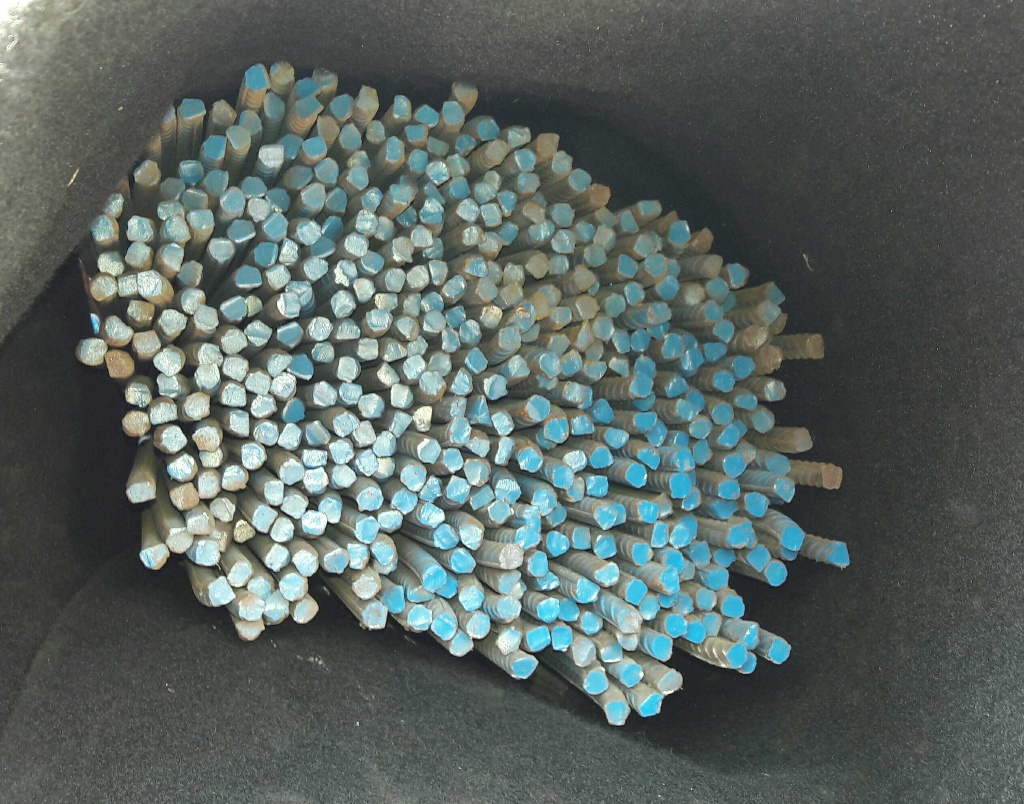dipstick: (153, 345, 185, 376), (154, 424, 186, 453), (105, 315, 134, 344), (105, 349, 134, 378), (126, 376, 154, 406), (91, 273, 117, 304), (92, 214, 119, 243), (279, 573, 308, 600), (139, 543, 169, 569), (121, 411, 152, 436), (194, 470, 221, 498), (168, 455, 197, 481), (170, 483, 199, 509), (209, 576, 234, 606), (164, 216, 191, 243), (127, 216, 155, 242), (192, 426, 221, 451), (220, 296, 247, 322), (330, 290, 356, 317), (222, 354, 248, 381), (221, 465, 248, 491), (158, 309, 186, 334), (238, 595, 266, 620), (125, 481, 156, 503), (245, 320, 271, 346), (358, 393, 384, 419), (355, 518, 381, 544), (431, 614, 457, 640), (262, 212, 287, 239), (176, 260, 203, 285), (150, 398, 177, 423), (185, 392, 210, 419), (400, 464, 425, 491), (526, 394, 551, 421), (347, 542, 371, 570), (499, 570, 527, 594), (160, 243, 183, 272), (245, 64, 270, 90), (210, 100, 236, 125), (137, 271, 162, 297), (181, 288, 206, 314), (221, 328, 246, 354), (304, 419, 329, 445), (279, 459, 304, 485), (166, 528, 192, 553), (194, 540, 220, 565), (293, 549, 318, 575), (324, 548, 350, 573), (419, 502, 444, 528), (449, 548, 475, 573), (657, 669, 683, 694), (744, 491, 769, 517), (228, 219, 255, 243), (125, 242, 152, 266), (287, 353, 311, 380), (304, 467, 328, 494), (365, 310, 392, 334), (667, 221, 691, 248), (157, 373, 185, 396), (278, 423, 301, 451), (352, 574, 380, 597), (265, 188, 290, 213), (277, 322, 302, 347), (227, 562, 252, 587), (265, 545, 290, 570), (531, 489, 556, 514), (97, 251, 123, 275), (128, 300, 154, 324), (288, 280, 312, 306), (80, 340, 106, 364), (194, 363, 218, 389), (333, 412, 359, 436), (242, 443, 266, 469), (328, 439, 354, 463), (210, 497, 236, 521), (253, 506, 277, 532), (357, 487, 383, 511), (465, 460, 489, 486), (669, 472, 693, 498), (253, 422, 280, 445), (512, 655, 539, 678), (747, 545, 770, 572), (133, 331, 161, 353), (451, 367, 473, 395), (297, 220, 321, 245), (264, 265, 289, 289), (194, 306, 218, 331), (335, 260, 359, 285), (301, 511, 326, 535), (293, 598, 318, 622), (459, 586, 483, 611), (392, 489, 417, 513), (434, 523, 458, 548), (518, 446, 542, 471), (593, 505, 617, 530), (134, 160, 160, 183), (330, 94, 353, 120), (315, 158, 338, 184), (235, 265, 261, 288), (302, 258, 328, 281), (313, 380, 336, 406), (355, 449, 378, 475), (363, 602, 386, 628), (495, 479, 521, 502), (442, 276, 465, 302), (661, 333, 684, 359), (547, 530, 569, 557), (203, 135, 227, 159), (220, 187, 244, 211), (278, 134, 302, 158), (254, 242, 278, 266), (276, 293, 300, 317), (498, 628, 522, 652), (526, 626, 550, 650), (605, 701, 629, 725), (595, 562, 619, 586), (420, 372, 444, 396), (524, 254, 548, 278), (671, 448, 695, 472), (179, 160, 204, 183), (259, 144, 284, 167), (287, 166, 312, 189), (209, 238, 234, 261), (198, 343, 223, 366), (221, 383, 246, 406), (319, 498, 342, 523), (409, 605, 432, 630), (459, 524, 482, 549), (417, 438, 440, 463), (447, 476, 470, 501), (402, 355, 425, 380), (593, 225, 616, 250), (537, 285, 562, 308), (625, 580, 648, 605), (781, 526, 804, 551), (705, 279, 728, 304), (353, 421, 375, 447), (424, 566, 446, 592), (374, 430, 396, 456), (459, 319, 481, 345), (465, 347, 487, 373), (187, 208, 214, 229), (188, 513, 215, 534), (384, 586, 405, 613), (391, 411, 411, 439), (450, 417, 470, 445), (205, 170, 228, 194), (301, 183, 324, 207), (268, 352, 291, 376), (338, 357, 361, 381), (270, 518, 293, 542), (371, 541, 394, 565), (500, 545, 524, 568), (580, 611, 603, 635), (381, 338, 405, 361), (415, 104, 439, 127), (551, 229, 575, 252), (574, 296, 598, 319), (680, 348, 703, 372), (225, 126, 250, 148), (316, 116, 338, 141), (245, 372, 270, 394), (281, 495, 306, 517), (573, 641, 595, 666), (583, 671, 608, 693), (487, 140, 509, 165), (478, 231, 500, 256), (485, 374, 507, 399), (552, 202, 574, 227), (623, 281, 645, 306), (713, 499, 738, 521), (295, 97, 321, 118), (183, 189, 209, 210), (239, 177, 265, 198), (301, 137, 327, 158), (341, 123, 362, 149), (321, 216, 342, 242), (251, 396, 277, 417), (334, 319, 360, 340), (574, 264, 595, 290), (559, 349, 580, 375), (652, 634, 673, 660), (769, 639, 790, 665), (689, 542, 710, 568), (727, 262, 748, 288), (376, 511, 403, 531), (661, 565, 680, 593), (239, 111, 262, 134), (160, 178, 183, 201), (346, 167, 369, 190), (309, 317, 332, 340), (345, 234, 368, 257), (470, 487, 493, 510), (464, 254, 487, 277), (645, 254, 668, 277), (545, 419, 568, 442), (325, 188, 347, 212), (282, 398, 304, 422), (498, 596, 520, 620), (488, 500, 512, 522), (426, 162, 448, 186), (480, 203, 502, 227), (503, 263, 525, 287), (717, 424, 739, 448), (753, 409, 775, 433), (263, 92, 284, 117), (362, 249, 383, 274), (421, 200, 442, 225), (427, 260, 448, 285), (498, 221, 519, 246), (605, 293, 626, 318), (647, 302, 672, 323), (703, 300, 724, 325), (393, 237, 413, 263), (829, 541, 849, 567), (158, 201, 185, 220), (338, 382, 361, 404), (396, 317, 418, 340), (442, 102, 464, 125), (473, 181, 495, 204), (656, 276, 679, 298), (592, 317, 614, 340), (563, 381, 586, 403), (637, 448, 660, 470), (621, 664, 644, 686), (765, 562, 787, 585), (669, 524, 691, 547), (723, 455, 746, 477), (712, 402, 734, 425), (732, 356, 755, 378), (356, 211, 377, 235), (375, 217, 396, 241), (229, 411, 250, 435), (332, 465, 356, 486), (468, 614, 489, 638), (537, 598, 558, 622), (594, 534, 615, 558), (391, 384, 412, 408), (563, 450, 587, 471), (546, 503, 567, 527), (625, 464, 646, 488), (665, 613, 686, 637), (821, 464, 842, 488), (756, 302, 780, 323), (263, 481, 283, 506), (500, 326, 520, 351), (594, 398, 614, 423), (570, 414, 595, 434), (646, 421, 666, 446), (179, 99, 205, 118), (280, 240, 299, 266), (392, 94, 411, 120), (497, 190, 516, 216), (495, 437, 513, 464), (353, 279, 375, 301), (450, 634, 472, 656), (577, 580, 599, 602), (429, 353, 451, 375), (411, 225, 433, 247), (405, 124, 427, 146), (536, 133, 558, 155), (514, 150, 536, 172), (523, 201, 545, 223), (423, 311, 445, 333), (445, 306, 467, 328), (639, 694, 661, 716), (722, 595, 744, 617), (270, 62, 293, 83), (384, 269, 405, 292), (551, 152, 572, 175), (492, 412, 513, 435), (500, 283, 521, 306), (634, 234, 655, 257), (635, 356, 656, 379), (637, 500, 658, 523), (672, 592, 693, 615), (711, 371, 734, 392), (714, 319, 735, 342), (358, 87, 378, 111), (528, 552, 548, 576), (553, 466, 573, 490), (604, 428, 628, 448), (675, 399, 699, 419), (726, 644, 746, 668), (198, 448, 223, 467), (515, 527, 540, 546), (413, 407, 432, 432), (507, 126, 532, 145), (461, 225, 486, 244), (618, 253, 637, 278), (693, 440, 712, 465), (703, 342, 728, 361), (387, 136, 405, 162), (248, 198, 269, 220), (477, 119, 499, 140), (448, 177, 469, 199), (585, 244, 606, 266), (630, 375, 651, 397), (586, 475, 607, 497), (727, 526, 749, 547), (681, 283, 702, 305), (311, 343, 334, 363), (558, 598, 578, 621), (378, 363, 398, 386), (425, 137, 448, 157), (517, 173, 540, 193), (590, 182, 610, 205), (630, 328, 650, 351), (633, 411, 656, 431), (591, 447, 614, 467), (774, 479, 794, 502), (741, 623, 758, 650), (363, 187, 382, 211), (458, 198, 477, 222), (541, 353, 560, 377), (665, 551, 684, 575), (806, 334, 825, 358), (744, 326, 768, 345), (767, 280, 786, 304), (312, 68, 337, 86), (612, 329, 630, 354), (357, 339, 378, 360), (569, 169, 590, 190), (509, 355, 530, 376), (686, 620, 707, 641), (695, 589, 716, 610), (765, 380, 786, 401), (297, 78, 319, 98), (442, 449, 462, 471), (551, 628, 571, 650), (390, 184, 412, 204), (455, 135, 477, 155), (477, 279, 497, 301), (706, 570, 728, 590), (689, 418, 711, 438), (409, 265, 428, 288), (566, 478, 585, 501), (482, 305, 501, 328), (619, 613, 642, 632), (600, 643, 623, 662), (702, 613, 721, 636), (767, 455, 790, 474), (793, 428, 812, 451), (233, 522, 254, 542), (469, 437, 489, 458), (407, 148, 427, 169), (574, 220, 595, 240), (666, 376, 687, 396), (632, 543, 652, 564), (366, 120, 385, 142), (248, 577, 270, 596), (375, 293, 397, 312), (546, 336, 568, 355), (584, 360, 606, 379), (639, 597, 658, 619), (682, 487, 701, 509), (703, 255, 722, 277), (347, 151, 370, 169), (244, 293, 262, 316), (441, 329, 459, 352), (620, 210, 638, 233), (694, 228, 712, 251), (637, 200, 662, 216), (652, 522, 668, 547), (715, 547, 735, 567), (596, 207, 617, 226), (548, 255, 569, 274), (420, 292, 442, 310), (718, 481, 740, 499), (738, 651, 756, 673), (403, 295, 420, 318), (617, 632, 639, 649), (608, 358, 628, 376), (550, 307, 572, 323), (574, 526, 589, 549), (735, 395, 756, 409)
